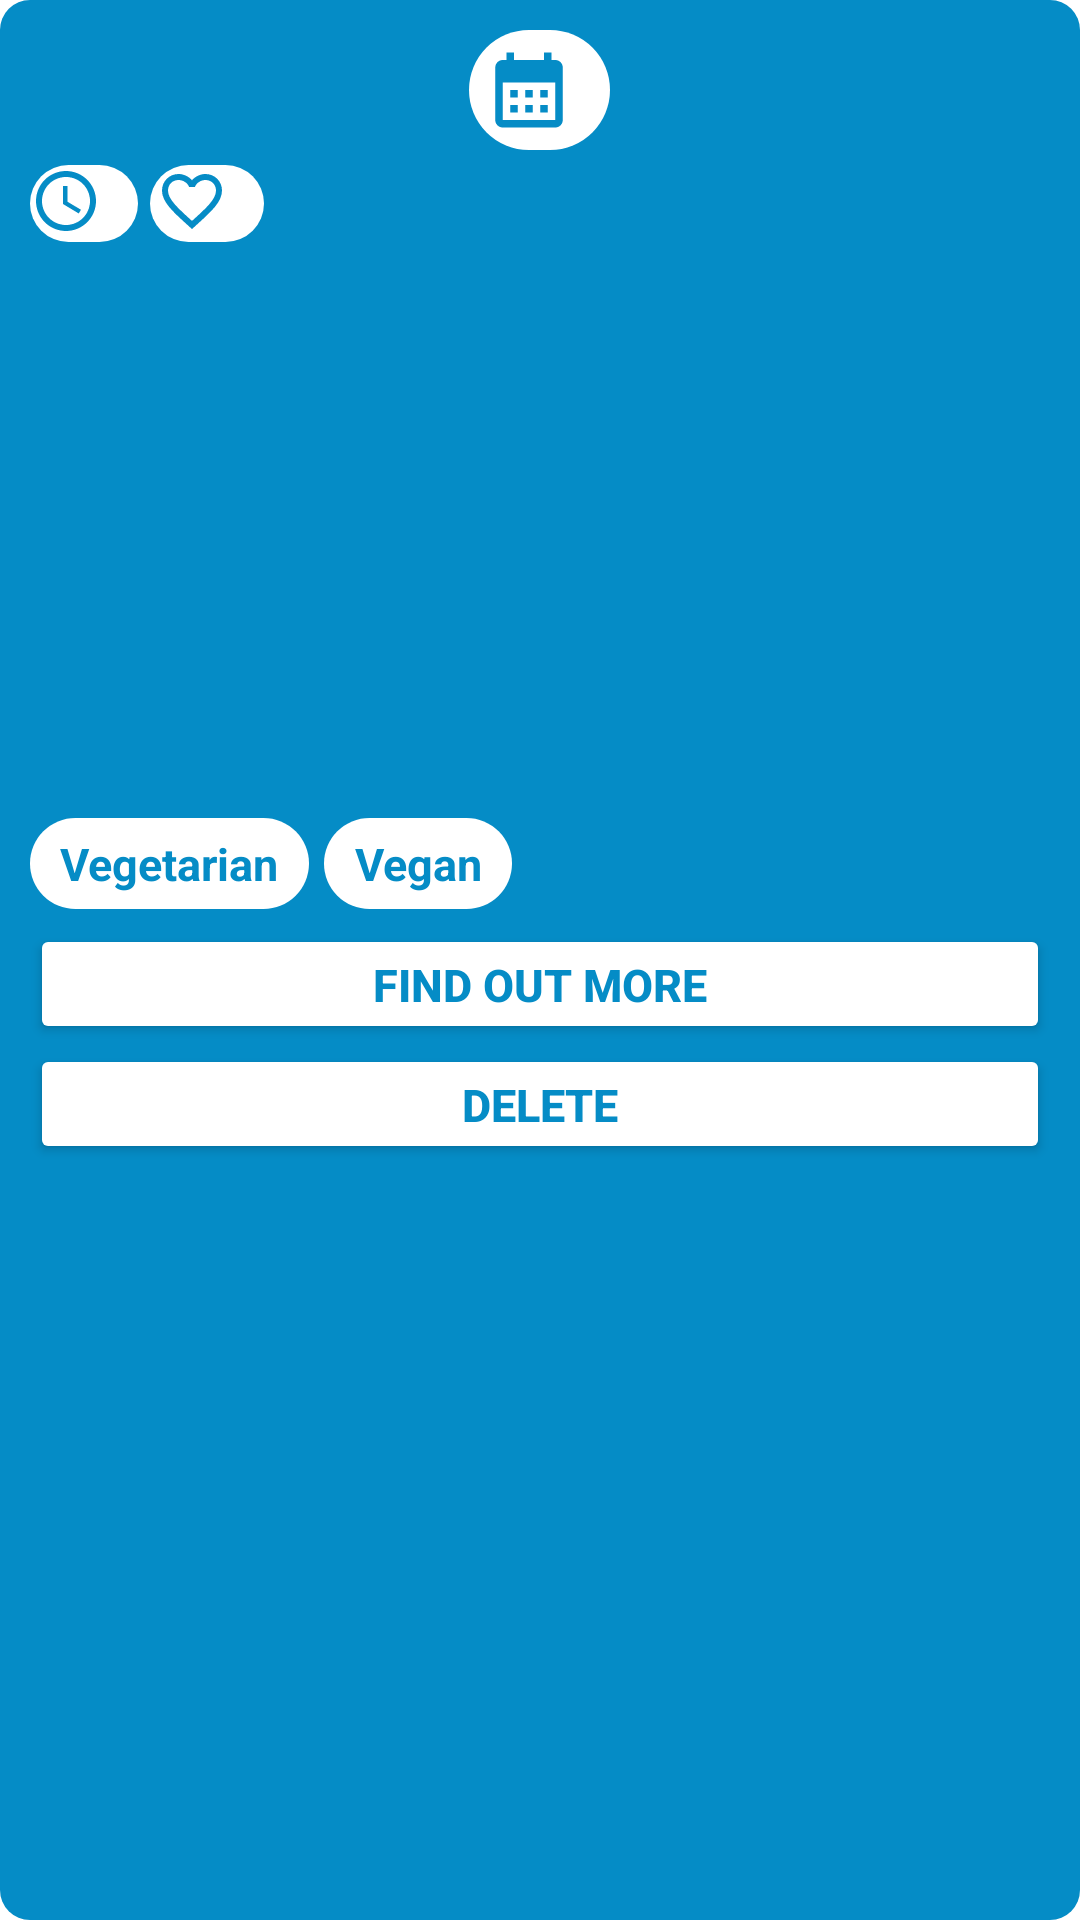

Icons on this 1080×1920 Android screen, each with the point to tap as point (x, y):
calendar: point (521, 90)
clock: point (66, 201)
heart: point (192, 201)
